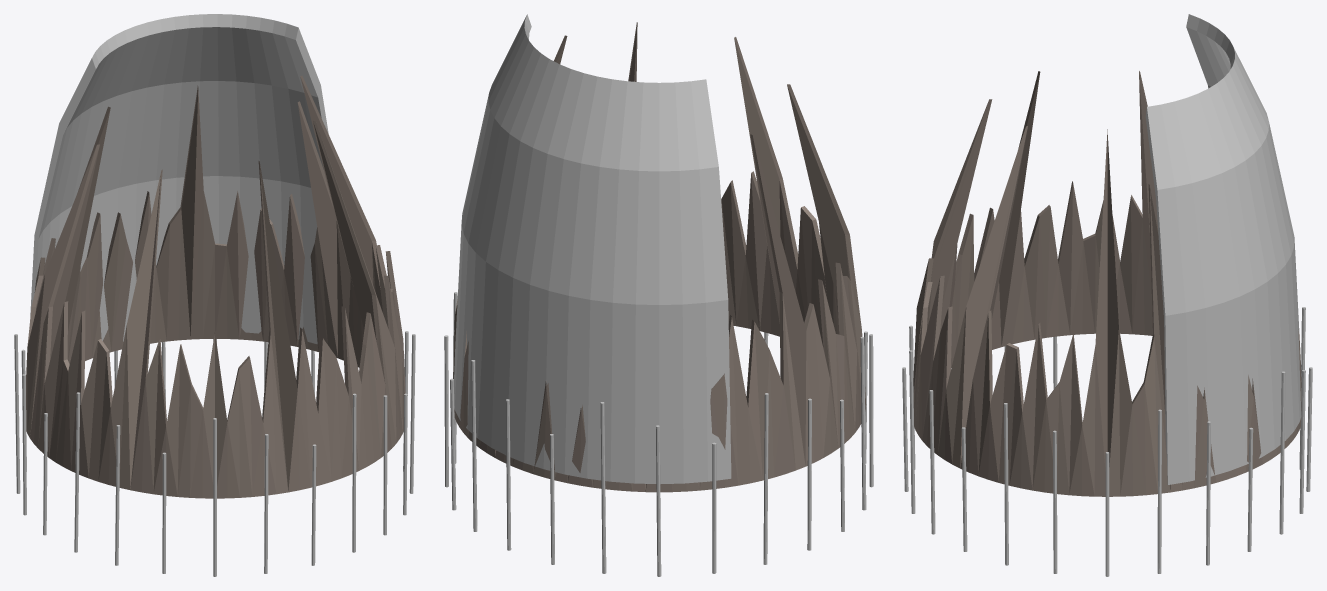
The model's file is body.obj.
3 views of the same model, side by side, from view 1: azimuth 30°, elevation 25°; view 2: azimuth 150°, elevation 25°; view 3: azimuth 270°, elevation 25° (orthographic). The views are drawn at different scales.
Bounding box in the file's own units: 0.953 × 1.13 × 0.965.
